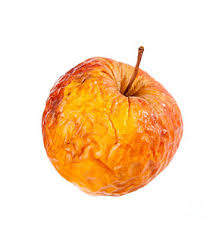damaged_apple: (39, 49, 185, 196)
